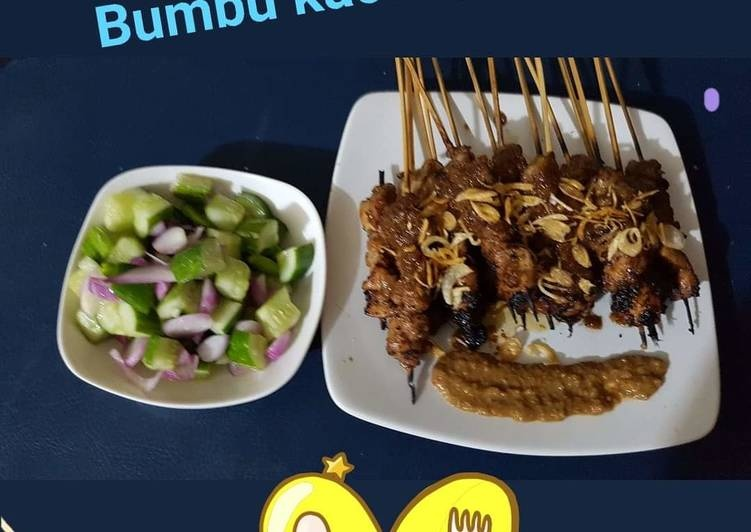sate_madura: (365, 53, 702, 380)
